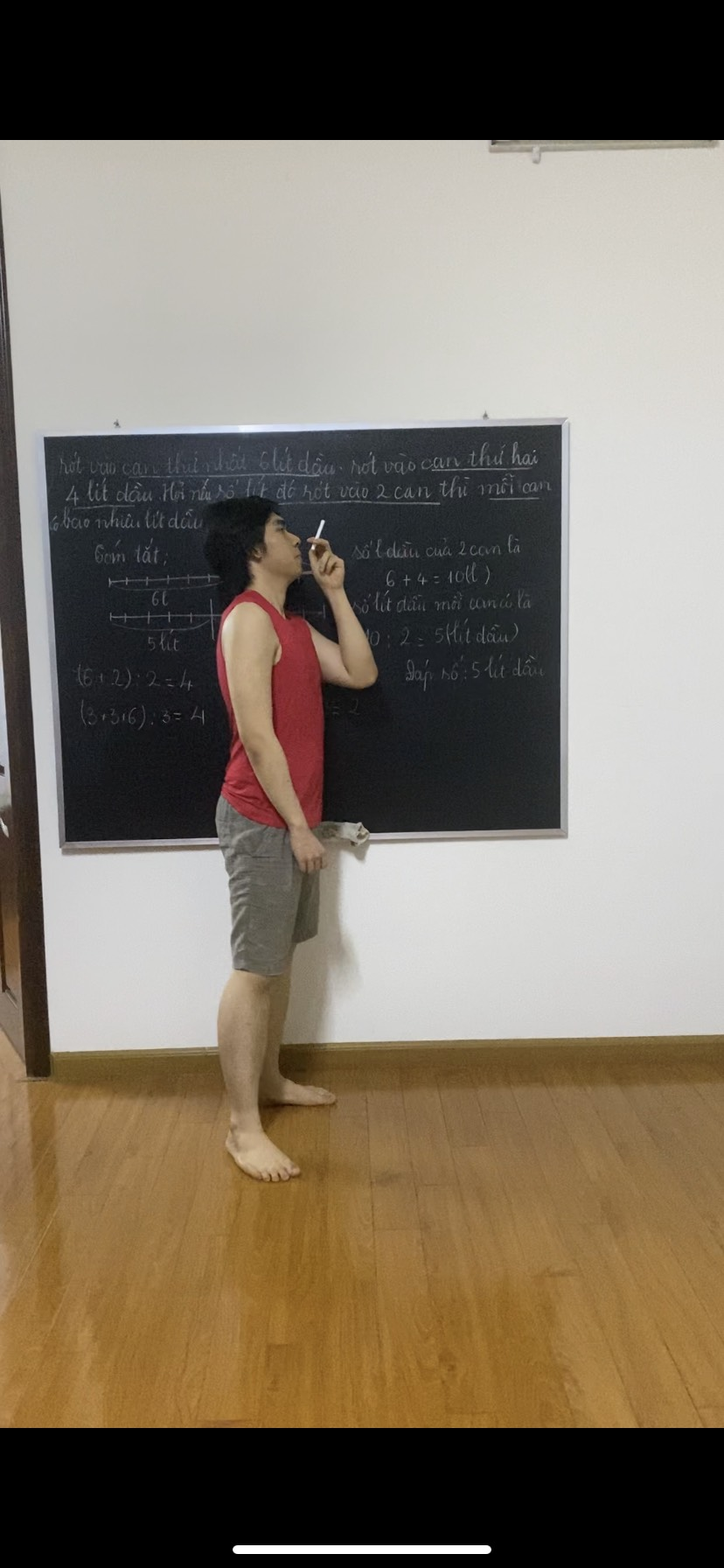cigarette: (313, 515, 329, 540)
person: (210, 491, 378, 1217)
